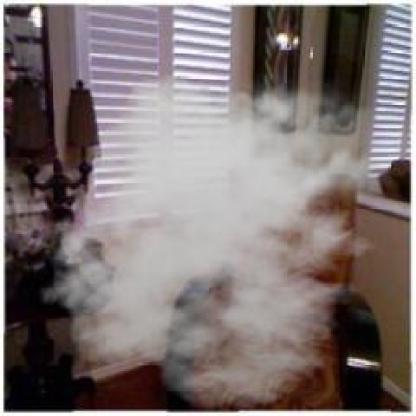Smoke: (39, 62, 400, 411)
